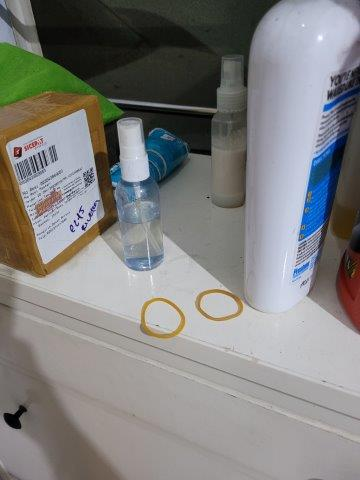karet: (140, 297, 185, 337), (195, 289, 244, 322)
